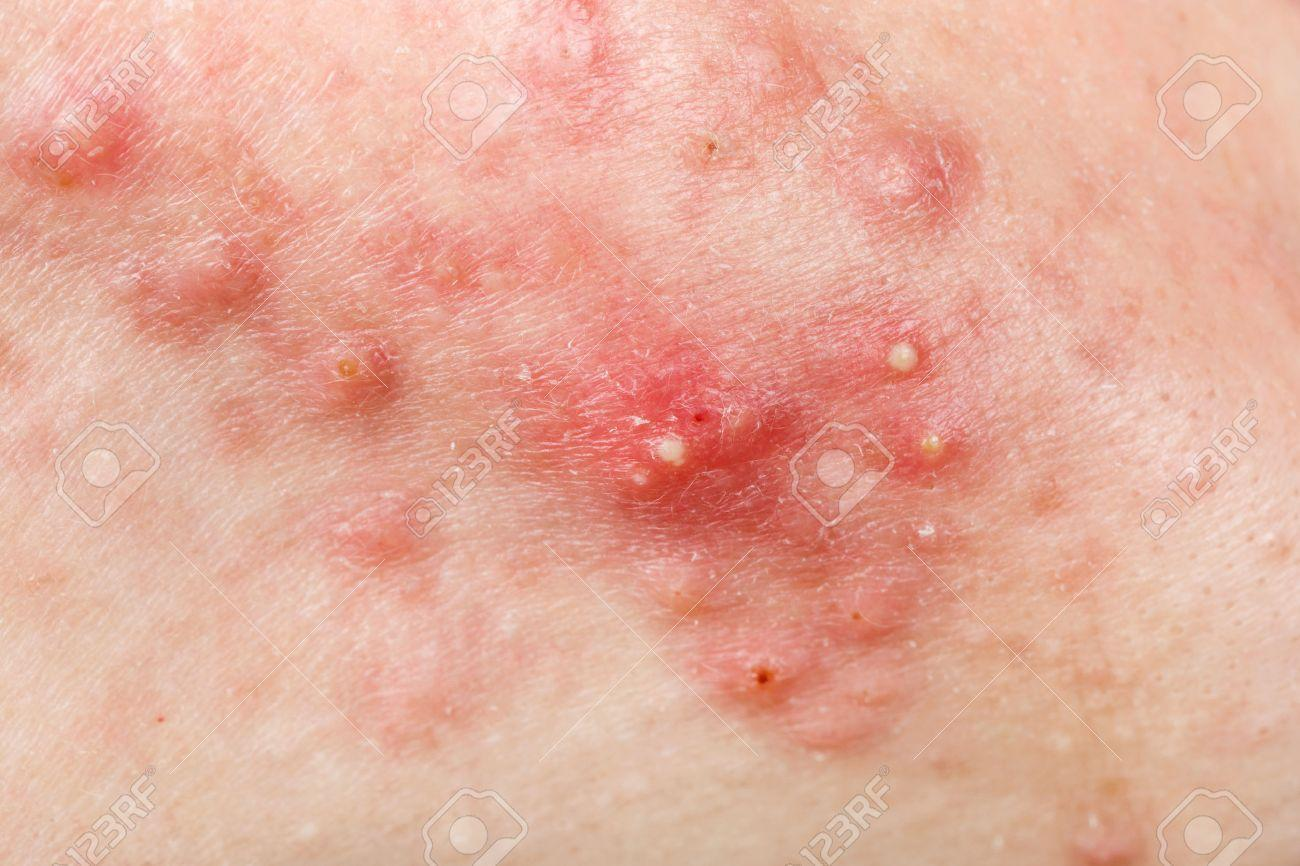cystic: (25, 70, 138, 216), (166, 213, 277, 310), (304, 322, 404, 407), (898, 404, 961, 483), (876, 323, 935, 400)
papular: (706, 641, 906, 753), (852, 128, 968, 236), (718, 10, 834, 116), (822, 571, 928, 656), (637, 540, 731, 627)
sebo-crystan-conglo: (605, 366, 799, 510)
